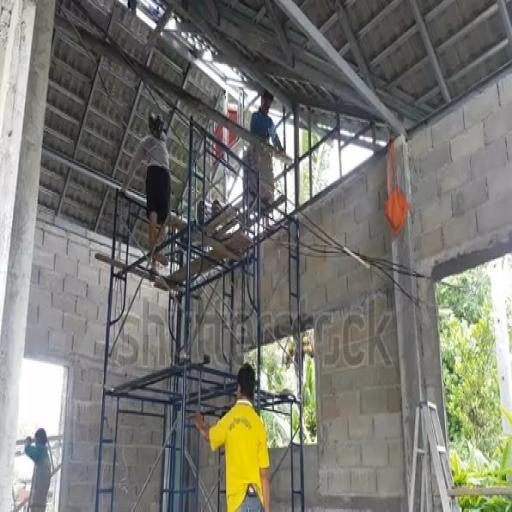head and helmet: (237, 363, 255, 400), (149, 113, 164, 138), (261, 90, 274, 114), (35, 429, 48, 446)
